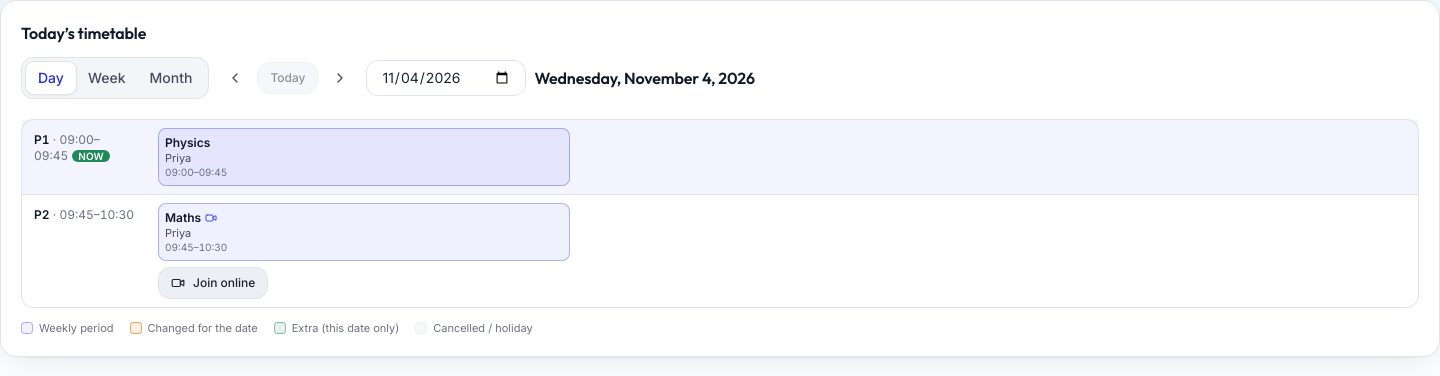
it: MyTimetableView — opens on today › the week view stays one click away, and “Today” comes back to the day
Expected: the heading "Today’s timetable" is shown, top-left (21, 23), bottom-right (146, 43)
Click the button "week": (107,78) top-left (76, 62), bottom-right (138, 94)
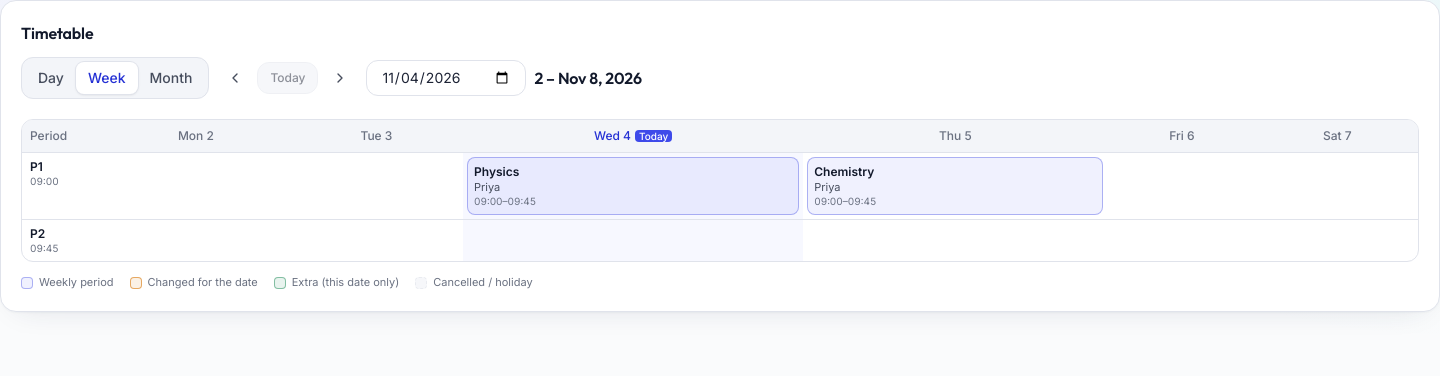
Expected: the heading "Timetable" is shown, top-left (21, 23), bottom-right (93, 43)
Now the element labelled "Chemistry Priya 09:00–09:45" is shown, box top-left (807, 157), bottom-right (1103, 215)
Click the button "day": (51,78) top-left (26, 62), bottom-right (76, 94)
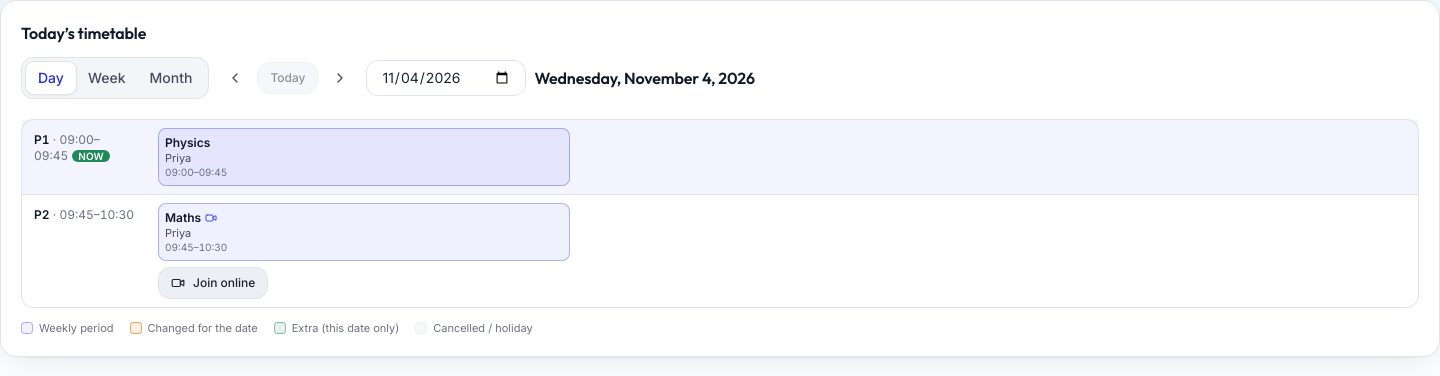
Now the heading "Today’s timetable" is shown, box top-left (21, 23), bottom-right (146, 43)
